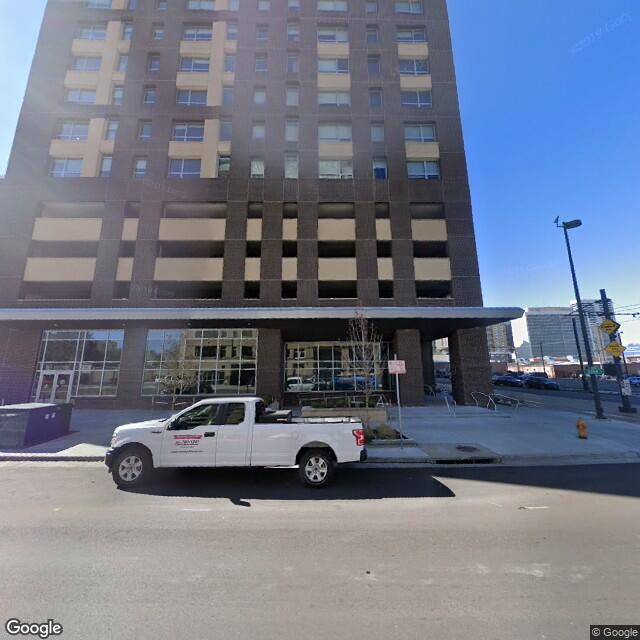fh: (572, 416, 592, 442)
